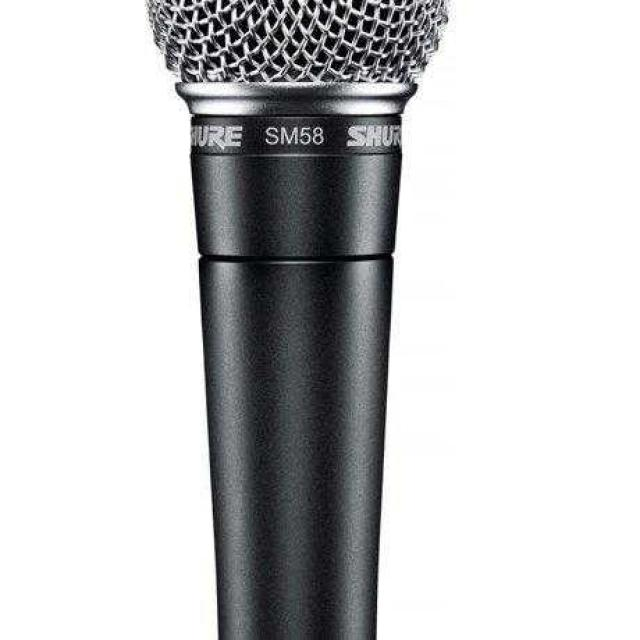microphone: (144, 8, 448, 618)
